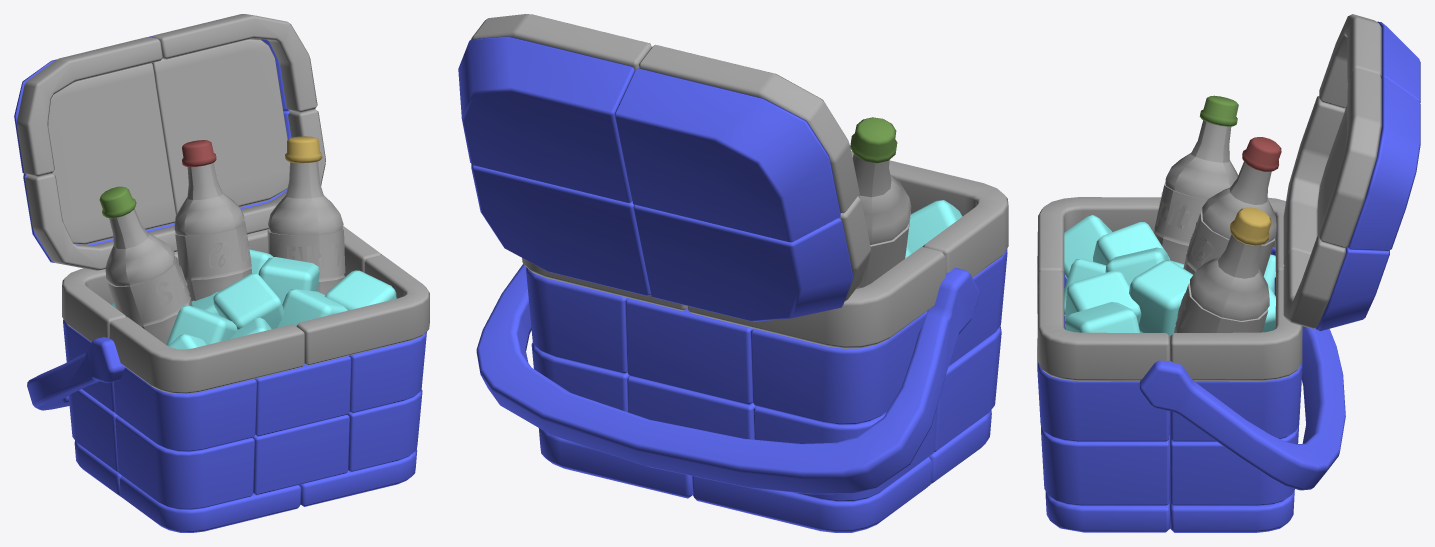
File: CoolerBoxFix.fbx
The picture shows the model from 3 angles, left to right: view 1: azimuth 30°, elevation 25°; view 2: azimuth 150°, elevation 25°; view 3: azimuth 270°, elevation 25°; orthographic projection. The views are drawn at different scales.
Parts seen in each view (by area): view 1: S_CoolerBox, M_CoolerBox, D_CoolerBox18, D_CoolerBox9, D1_CoolerBox14, D1_CoolerBox20, D1_CoolerBox18, D_CoolerBox27, D_CoolerBox25, S_CoolerBox_, D1_CoolerBox64, D_CoolerBox4 (+6 smaller); view 2: S_CoolerBox, M_CoolerBox, S_CoolerBox_, D1_CoolerBox58, D_CoolerBox4, D1_CoolerBox12; view 3: S_CoolerBox, M_CoolerBox, D1_CoolerBox41, D1_CoolerBox39, D1_CoolerBox51, D_CoolerBox8, D_CoolerBox25, D1_CoolerBox35, S_CoolerBox_, D_CoolerBox19, D1_CoolerBox52, D1_CoolerBox61 (+3 smaller).
Part boxes in pixels (x1,y1,x2,y2): S_CoolerBox: (14, 14, 429, 509); M_CoolerBox: (48, 38, 417, 532); D_CoolerBox18: (185, 228, 242, 276); D_CoolerBox9: (130, 264, 187, 323); D1_CoolerBox14: (125, 238, 172, 281); D1_CoolerBox20: (270, 197, 318, 229); D1_CoolerBox18: (184, 196, 234, 230); D_CoolerBox27: (269, 232, 320, 278); D_CoolerBox25: (319, 228, 345, 278); S_CoolerBox_: (99, 186, 136, 218); D1_CoolerBox64: (287, 162, 311, 198); D_CoolerBox4: (107, 281, 142, 323); S_CoolerBox: (458, 14, 1008, 501); M_CoolerBox: (538, 410, 991, 532); S_CoolerBox_: (850, 117, 897, 163); D1_CoolerBox58: (871, 181, 911, 240); D_CoolerBox4: (865, 212, 910, 285); D1_CoolerBox12: (853, 154, 875, 197); S_CoolerBox: (1037, 14, 1420, 505); M_CoolerBox: (1045, 105, 1347, 532); D1_CoolerBox41: (1222, 273, 1269, 316); D1_CoolerBox39: (1175, 157, 1229, 195); D1_CoolerBox51: (1190, 260, 1233, 312); D_CoolerBox8: (1163, 190, 1207, 242); D_CoolerBox25: (1175, 284, 1220, 332); D1_CoolerBox35: (1203, 193, 1253, 234); S_CoolerBox_: (1199, 95, 1238, 126); D_CoolerBox19: (1188, 221, 1229, 269); D1_CoolerBox52: (1195, 122, 1226, 162); D1_CoolerBox61: (1230, 163, 1262, 204).
Bounding box in the file's own units: 436 × 472 × 410.
